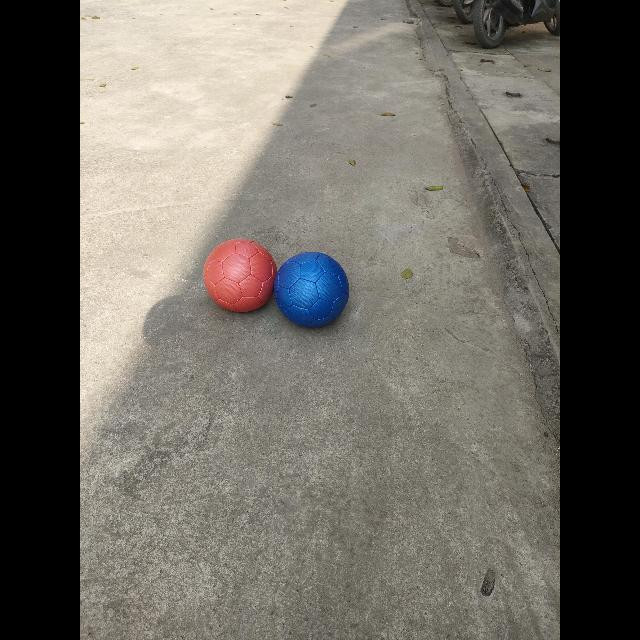B: (273, 252, 350, 330)
R: (202, 239, 278, 316)
